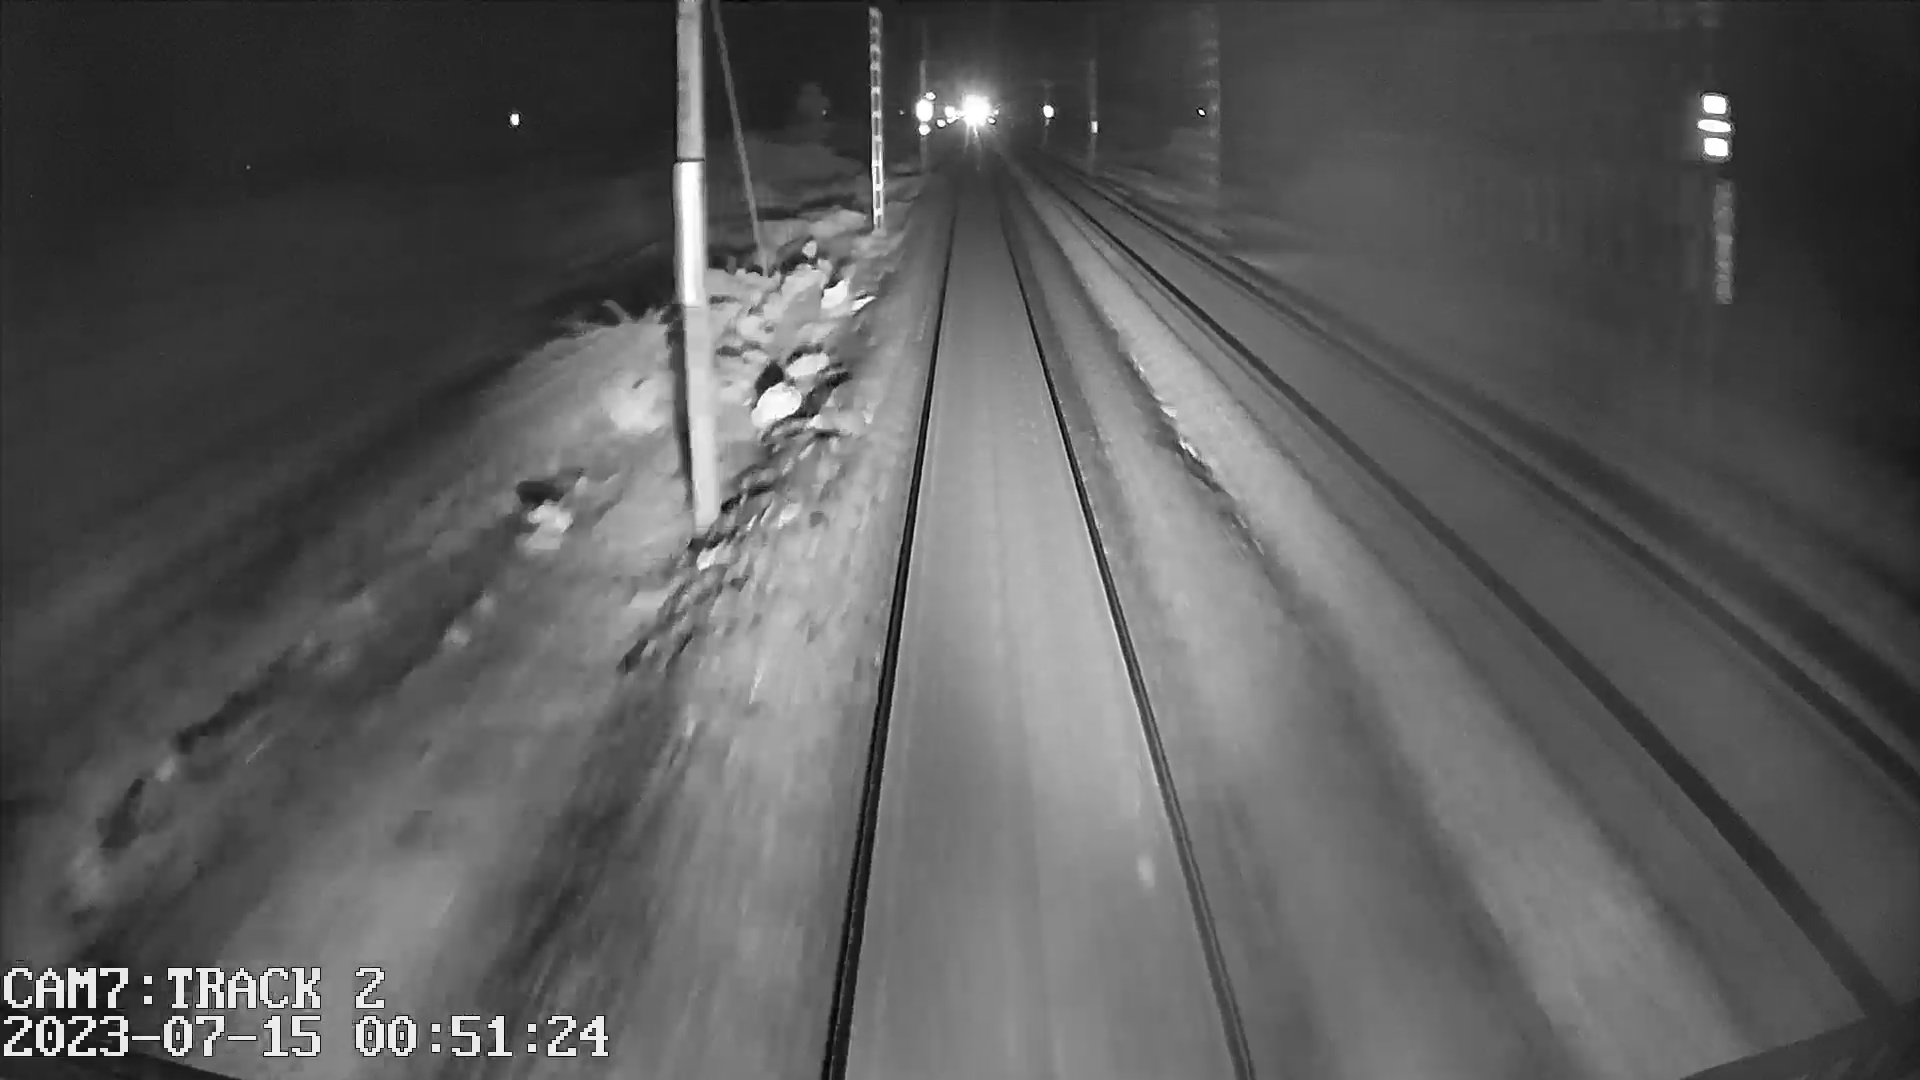track1: (833, 175, 1237, 1050)
track2: (1067, 189, 1906, 879)
